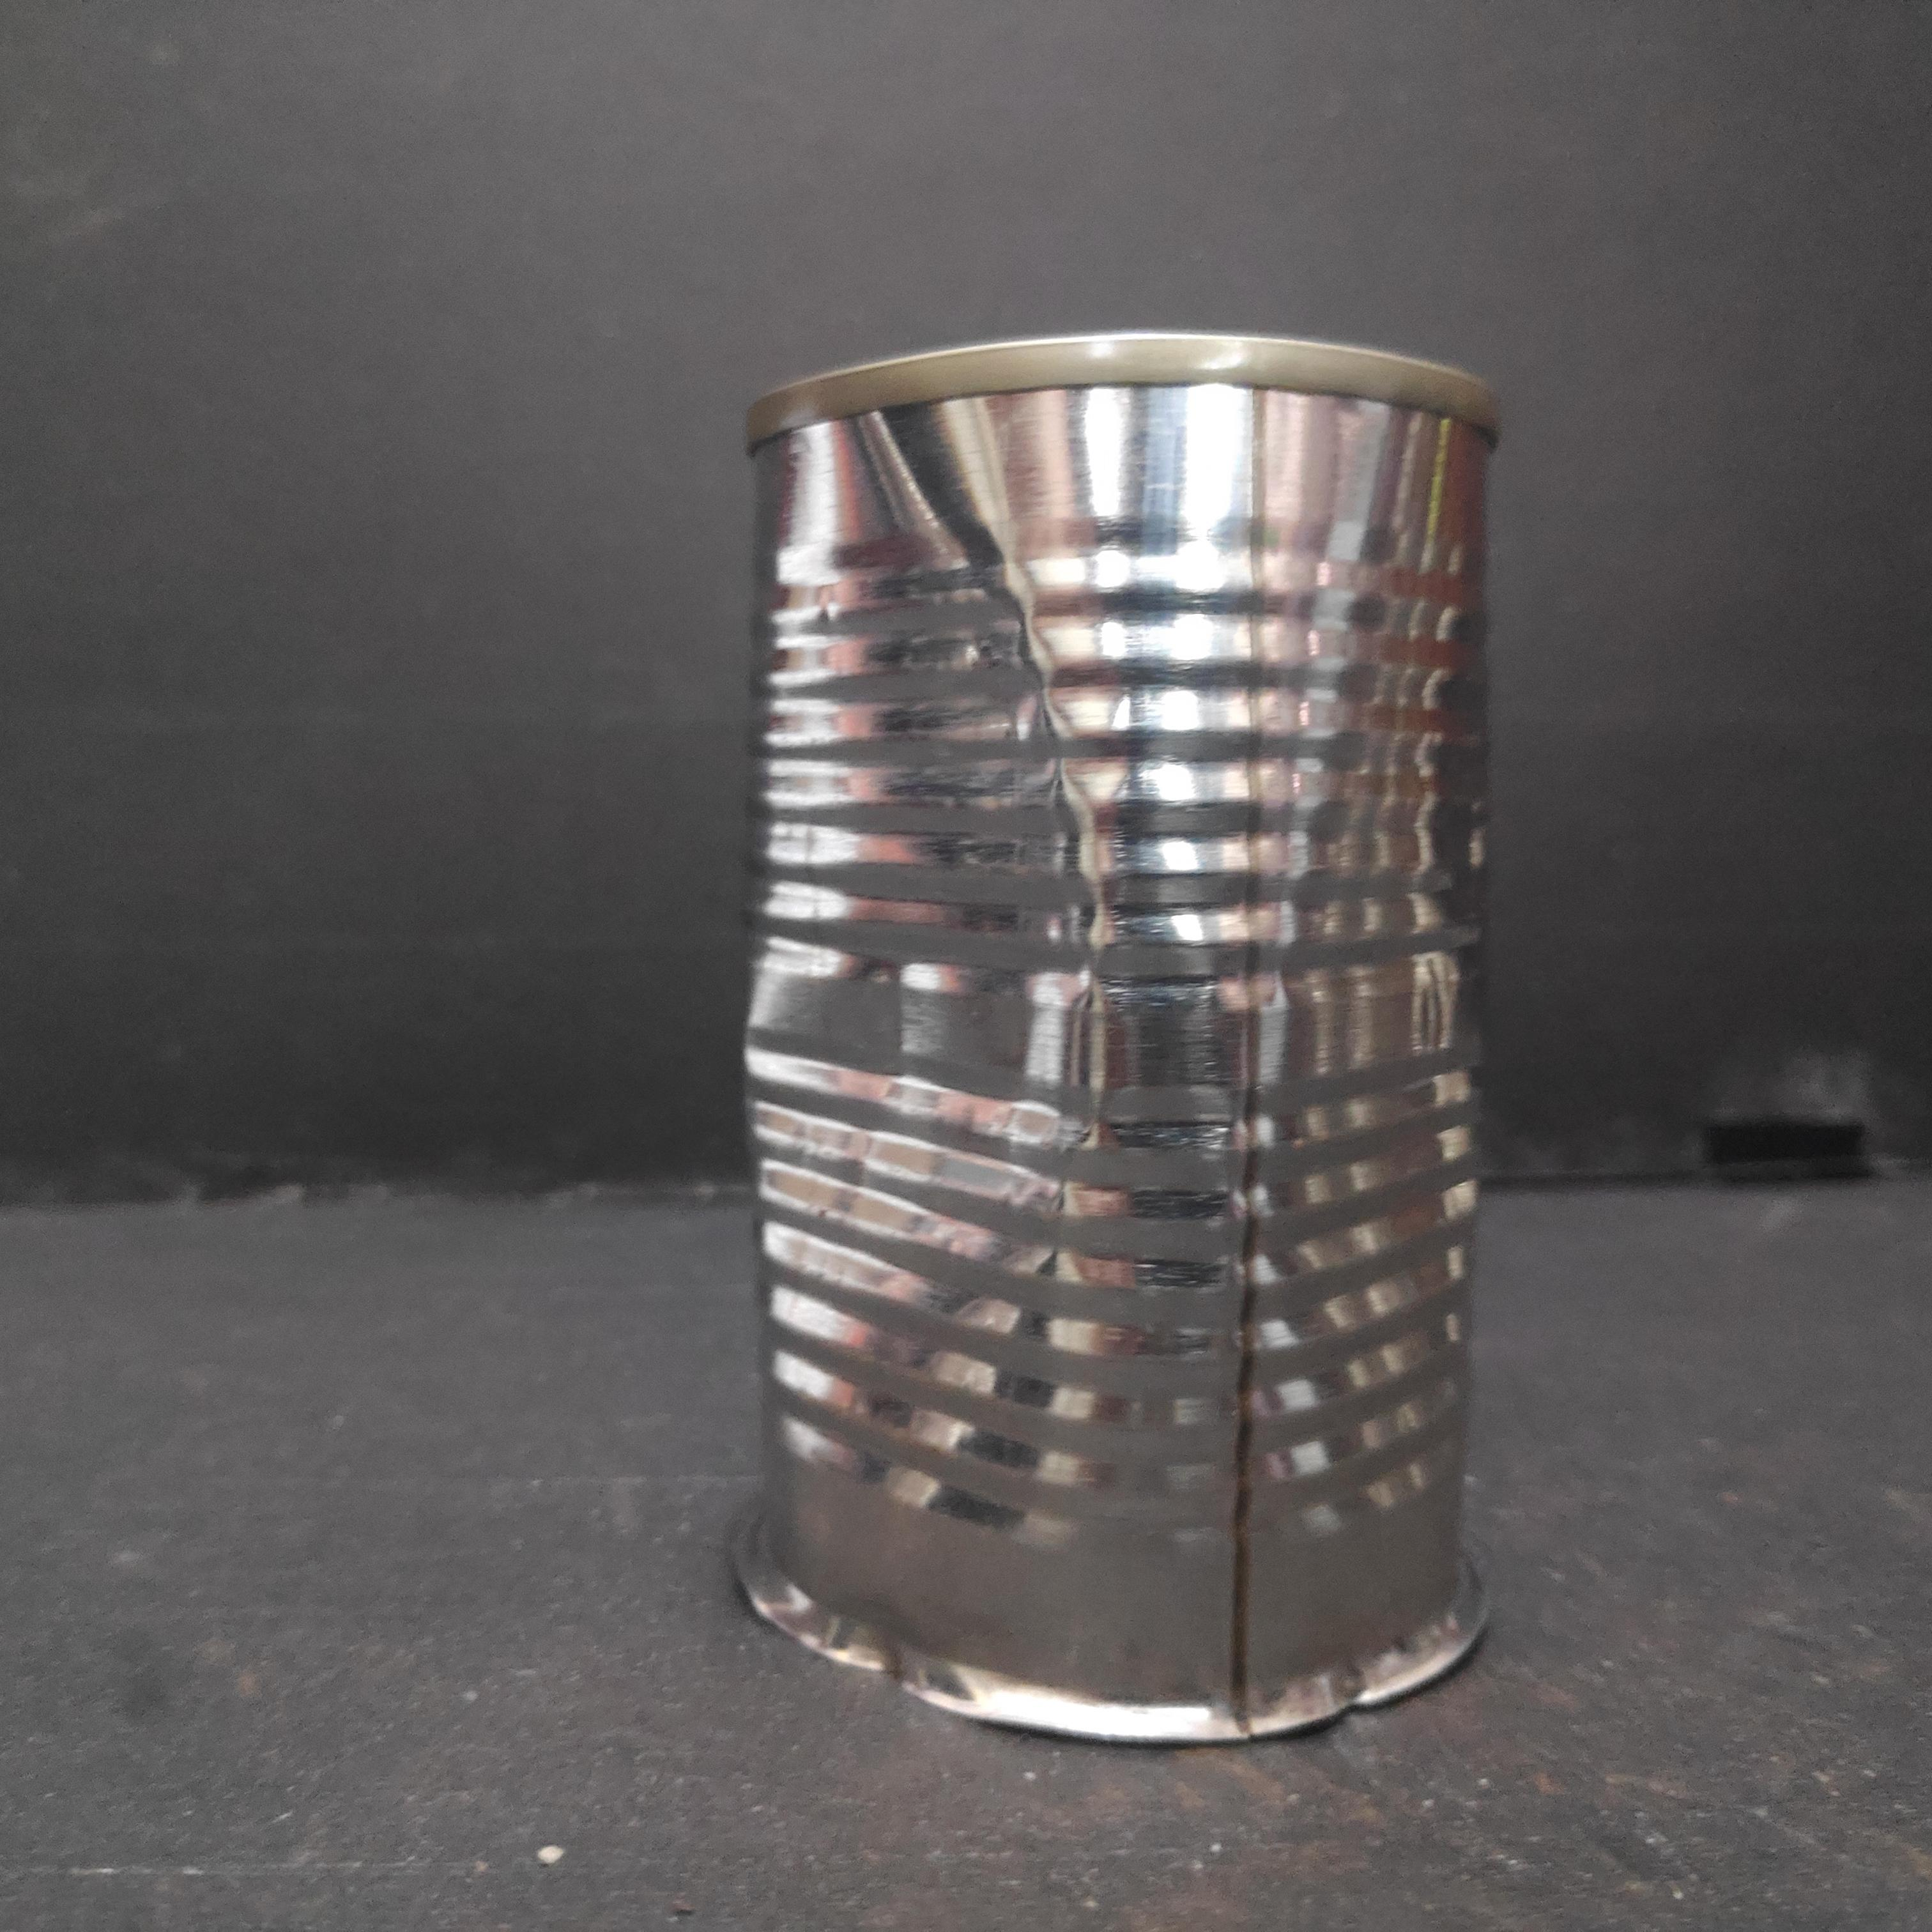Minor Defect: (727, 333, 1509, 1752)
